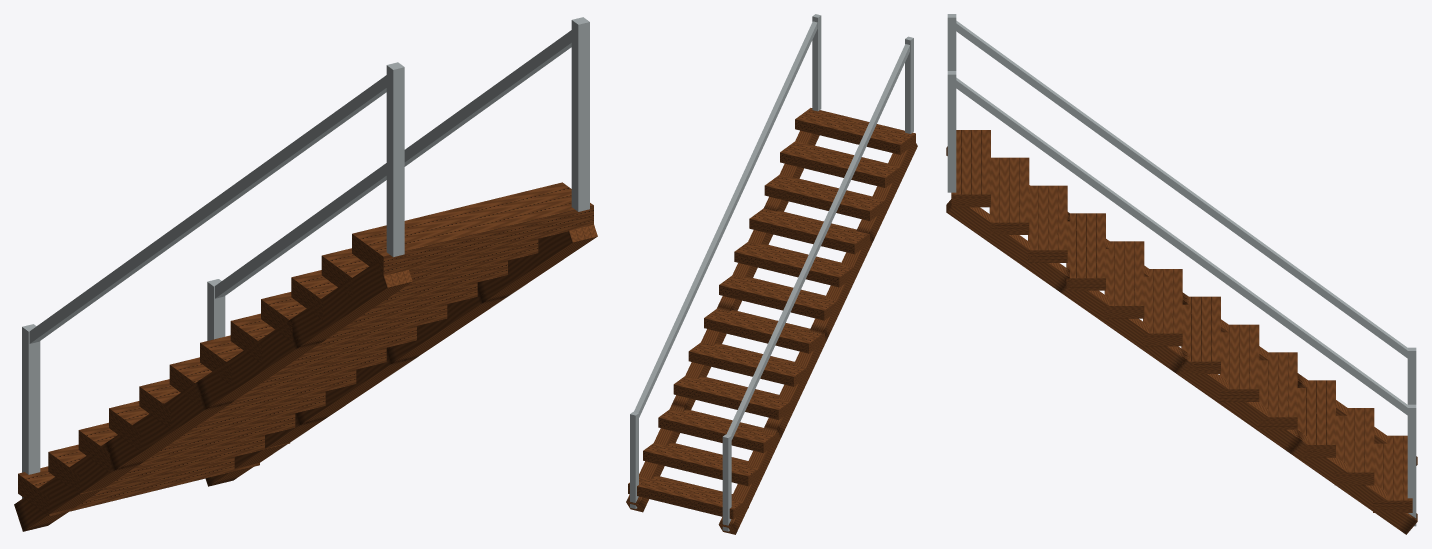
Rendered from fortified-compound-expansion-perimeter-stair-8e26770f__27115.glb.
3 renders of one model, left to right at view 1: azimuth 30°, elevation 25°; view 2: azimuth 150°, elevation 25°; view 3: azimuth 270°, elevation 25°, orthographic. The views are drawn at different scales.
Parts seen in each view (by area): view 1: perimeter-stair; view 2: perimeter-stair; view 3: perimeter-stair.
Part boxes in pixels (x1,y1,x2,y2): perimeter-stair: (14, 17, 597, 531); perimeter-stair: (626, 14, 917, 534); perimeter-stair: (946, 14, 1417, 534).
Size of the model in its own units: 1 by 3.3 by 3.07.
Materials: 2 (1 with a texture image).
